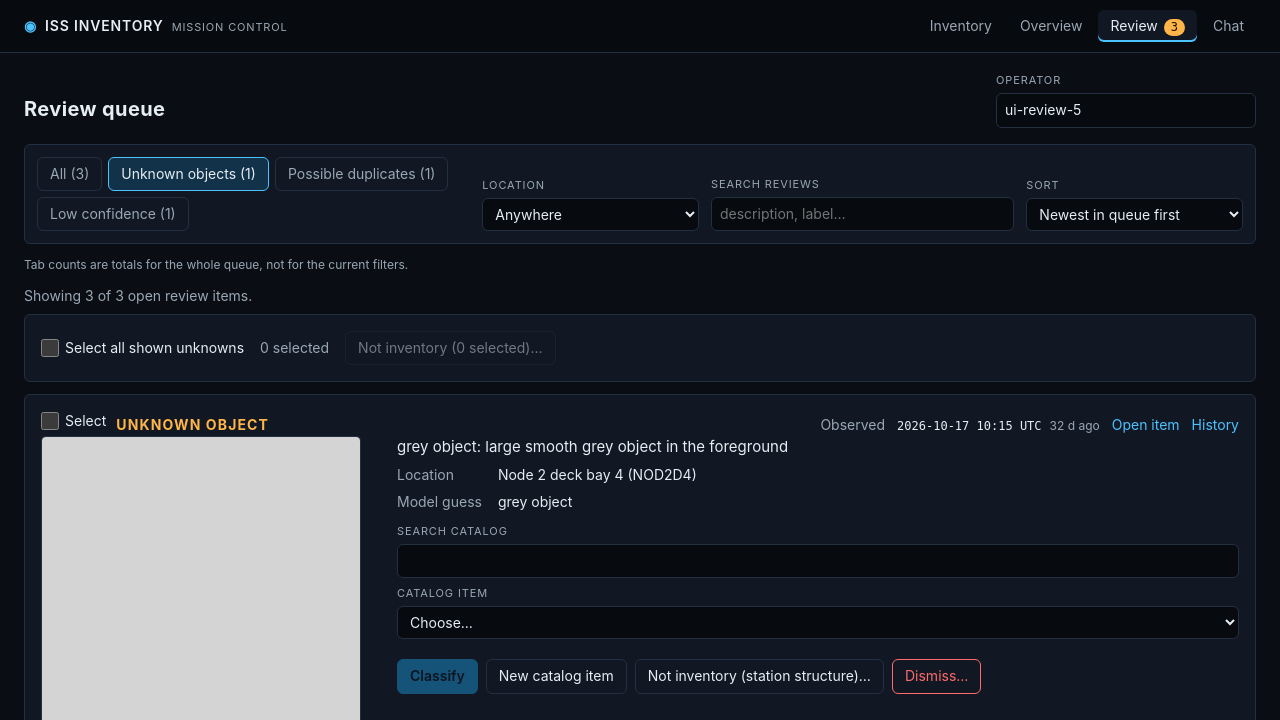
Test case: UI5-02 "Not inventory" bulk action on the unknown tab › "Select all" toggles every shown unknown
This screenshot has width=1280, height=720.
Click the checkbox labelled "Select all shown unknowns".
click(50, 348)  # box 41,339 -> 59,357
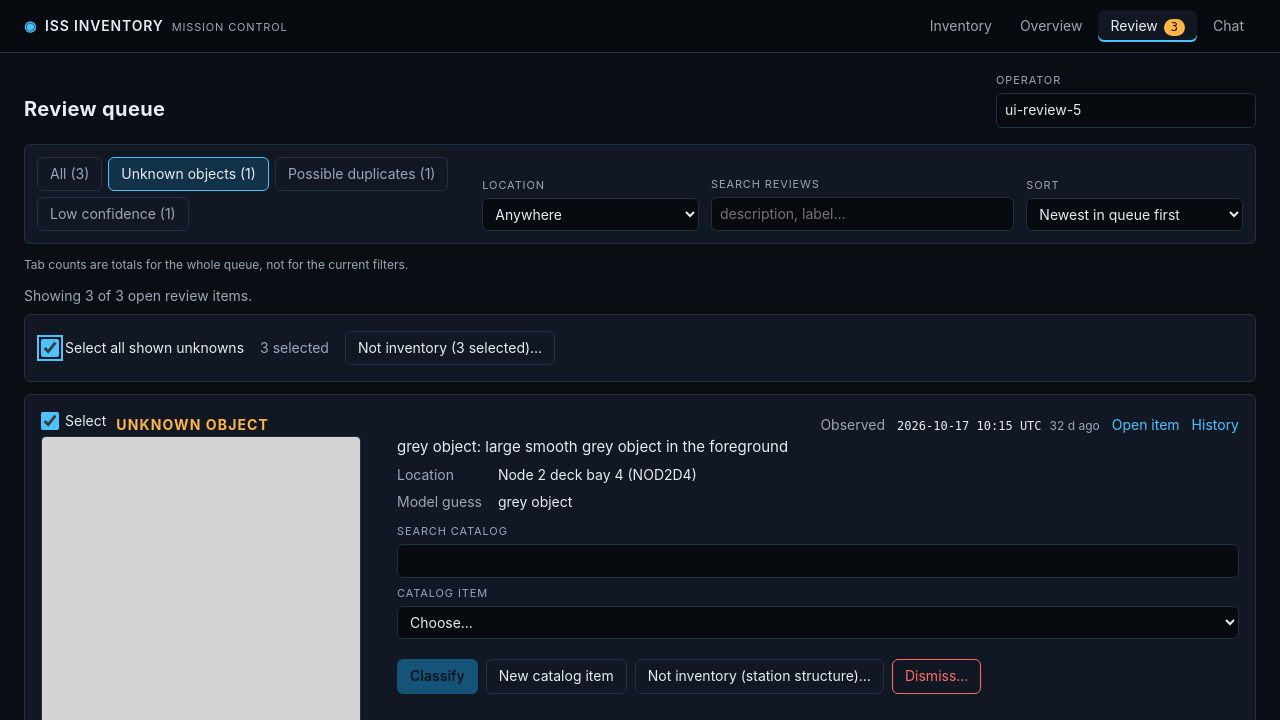
Now the element named "bulk actions" shows "3 selected", box 260,339 -> 329,356
Click the checkbox labelled "Select all shown unknowns".
click(50, 348)  # box 41,339 -> 59,357
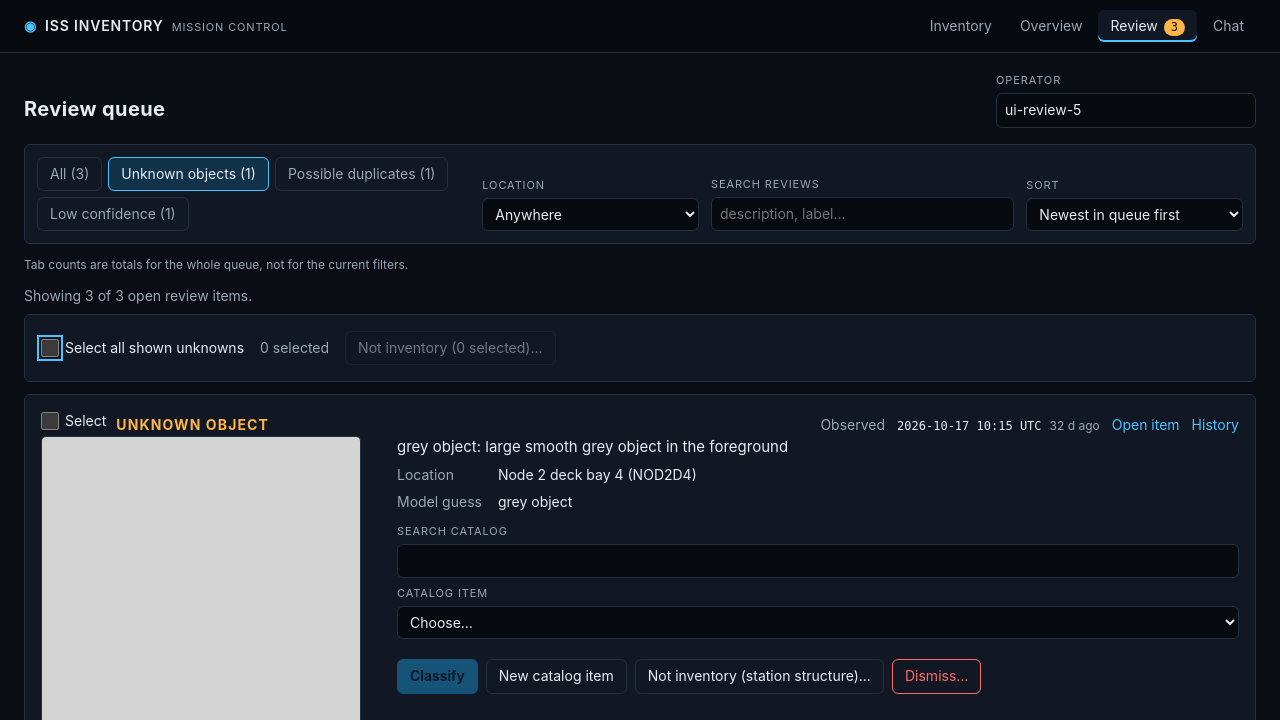
Now the element named "bulk actions" shows "0 selected", box 260,339 -> 329,356
